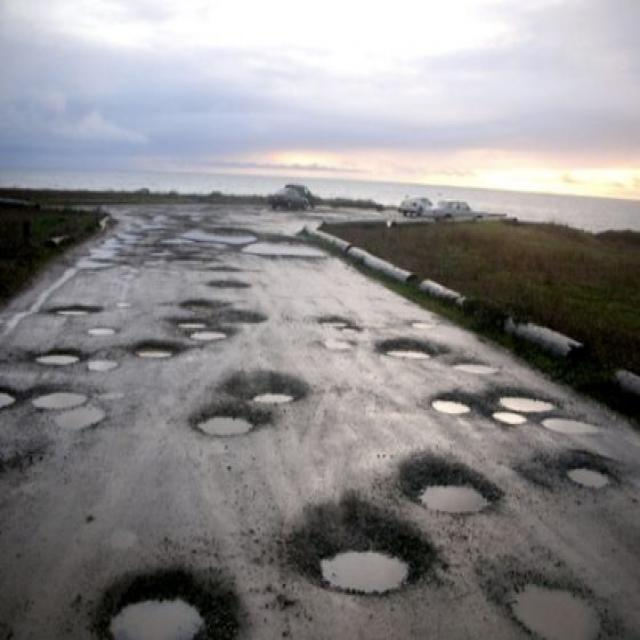pothole: (283, 503, 432, 598), (96, 562, 240, 638), (492, 566, 612, 638), (383, 449, 503, 516), (29, 380, 110, 436), (228, 368, 314, 404), (185, 400, 272, 434), (560, 450, 614, 492), (373, 332, 444, 363), (492, 384, 560, 414), (170, 312, 230, 345), (535, 413, 604, 435), (421, 390, 470, 415), (33, 346, 85, 368), (126, 338, 180, 356), (491, 408, 528, 424)
